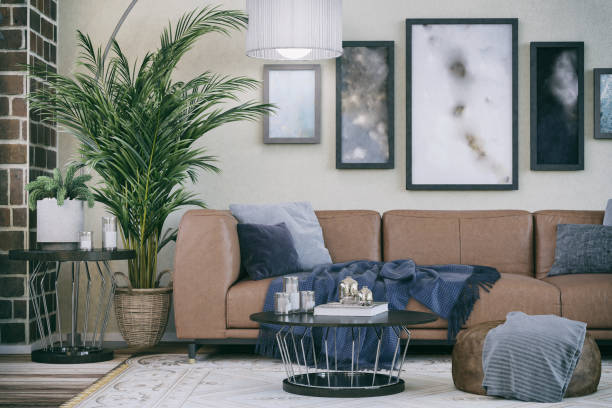large plant: (37, 15, 244, 345)
side table: (5, 247, 137, 364)
small plant: (24, 162, 94, 247)
sofa: (168, 201, 612, 360)
table: (246, 303, 439, 399)
wall art: (403, 15, 520, 193), (334, 37, 397, 171), (527, 38, 587, 172), (260, 60, 323, 146), (590, 65, 612, 142)
